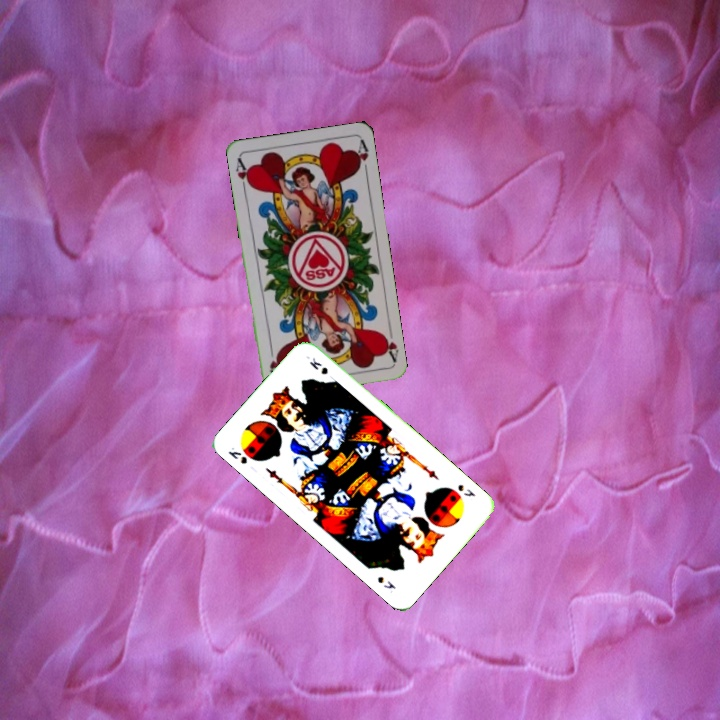HA: (378, 323, 401, 364), (232, 154, 254, 195)
SK: (224, 443, 250, 467), (453, 480, 478, 499)
